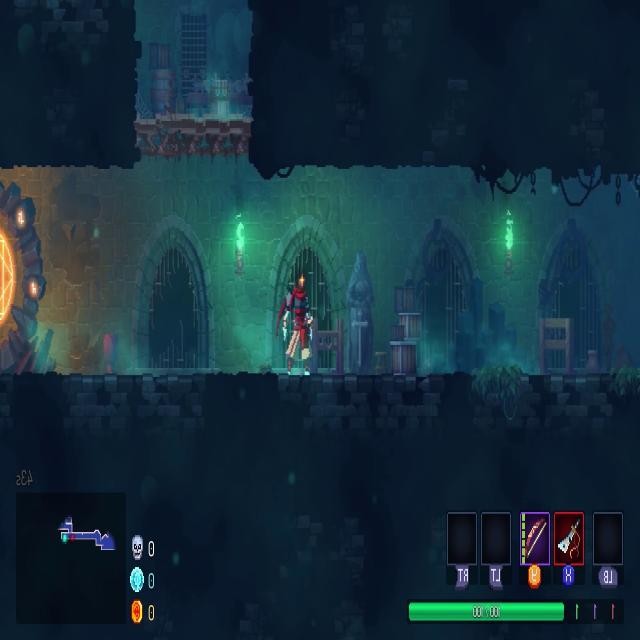agents: (280, 276, 312, 378)
wood_floor: (133, 112, 251, 156)
